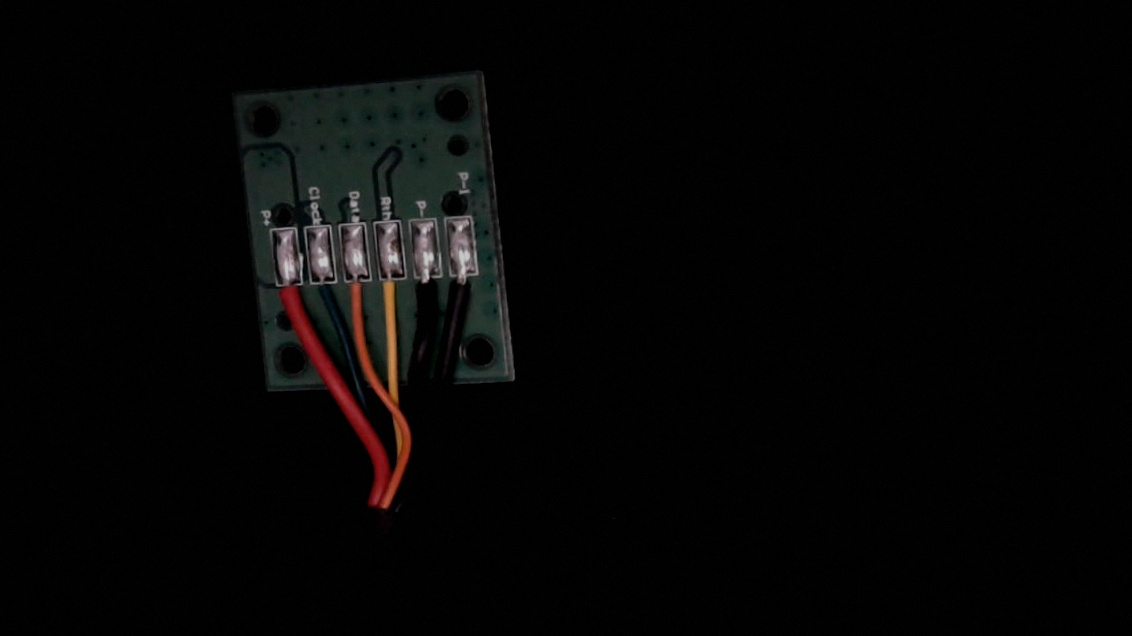Black: (413, 263, 440, 322)
Black1: (447, 263, 479, 320)
Green: (306, 271, 343, 313)
Orange: (341, 269, 372, 317)
Red: (270, 272, 307, 312)
Yellow: (377, 265, 407, 317)
